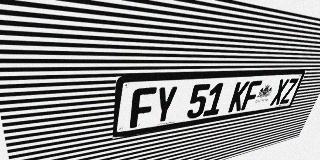1: (203, 83, 227, 117)
5: (186, 84, 211, 119)
F: (130, 87, 157, 128), (241, 80, 262, 110)
K: (228, 81, 250, 113)
X: (270, 79, 290, 106)
Y: (152, 86, 178, 125)
Z: (279, 78, 299, 104)
